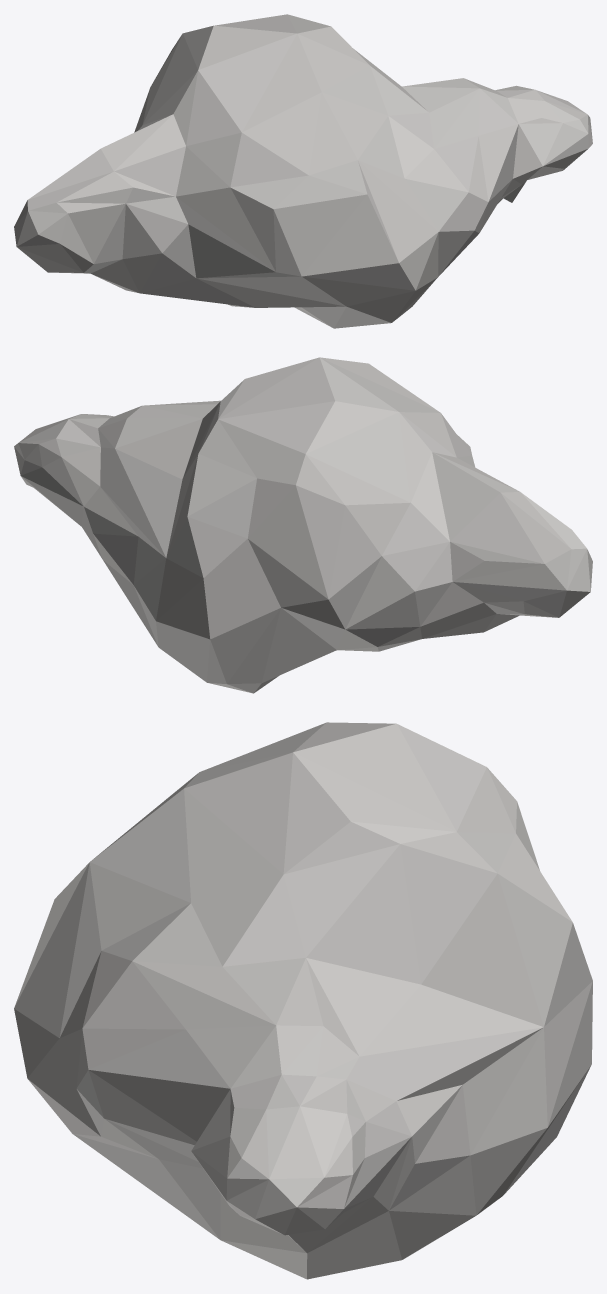
File: cloud_c.glb
3 views of the same model, one above another, from view 1: azimuth 30°, elevation 25°; view 2: azimuth 150°, elevation 25°; view 3: azimuth 270°, elevation 25° (orthographic). The views are drawn at different scales.
Parts seen in each view (by area): view 1: SM_Env_Cloud_03; view 2: SM_Env_Cloud_03; view 3: SM_Env_Cloud_03.
Part boxes in pixels (x1,y1,x2,y2): SM_Env_Cloud_03: [14, 14, 592, 328]; SM_Env_Cloud_03: [14, 357, 592, 693]; SM_Env_Cloud_03: [14, 722, 592, 1279].
Bounding box in the file's own units: 550 × 283 × 322.
1 material, 1 textured.
